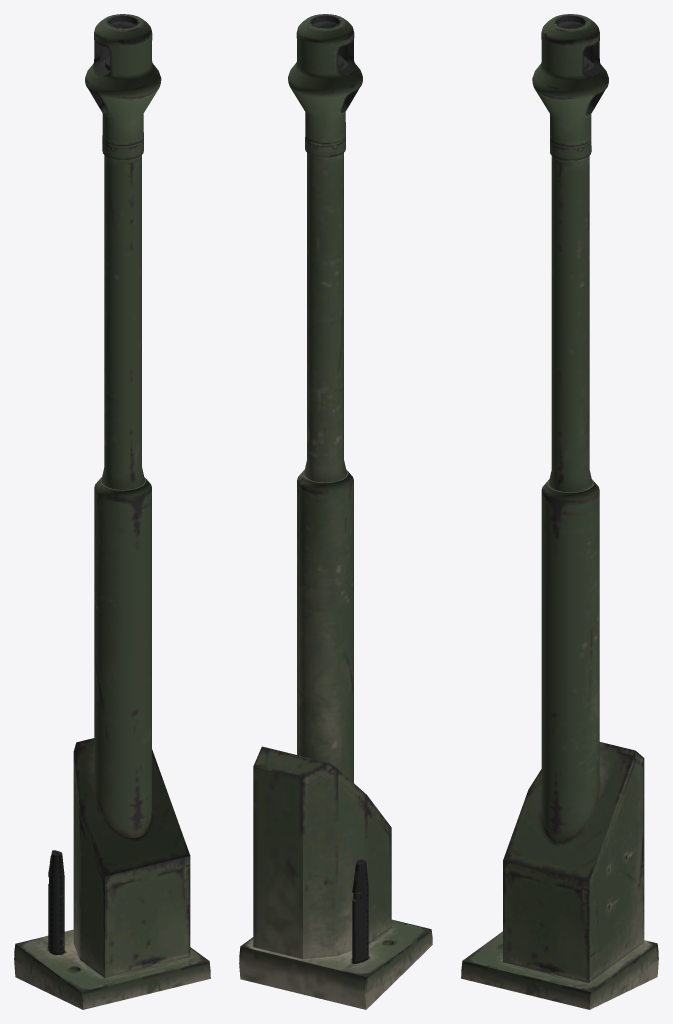
File: Gun_03.glb
The picture shows the model from 3 angles, left to right: view 1: azimuth 30°, elevation 25°; view 2: azimuth 150°, elevation 25°; view 3: azimuth 330°, elevation 25°; orthographic projection. The views are drawn at different scales.
Visible parts, largest first — view 1: set_0_group_0; view 2: set_0_group_0; view 3: set_0_group_0.
Part boxes in pixels (box(x1,y1,x2,y2)): set_0_group_0: box(14, 14, 210, 1009); set_0_group_0: box(239, 14, 432, 1009); set_0_group_0: box(461, 14, 658, 1009).
Bounding box in the file's own units: 0.6 × 4.31 × 0.56.
Materials: 1 (1 with a texture image).
